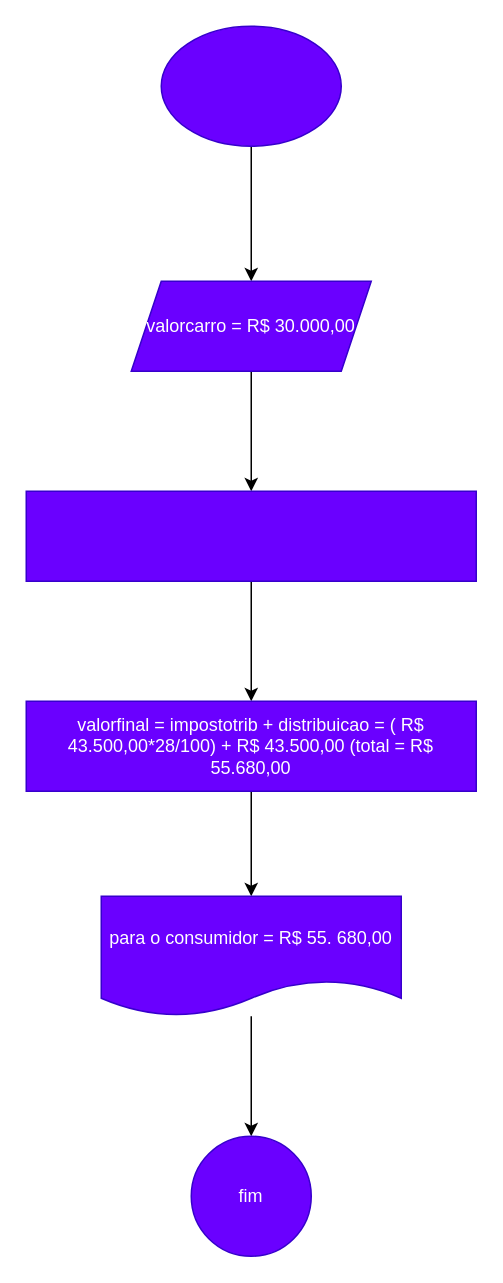
Some shapes in this 503 by 1283 pixel diagram are drawn without their labels. Here are the shapes that lost their labels. From the top down, the box of each, then its label:
(160, 25, 341, 146): inicio
(25, 490, 476, 581): impostotrib = ( R$ 30.000,00*45/100 ) + R$ 30.000,00 (total = R$ 43.500,00 )
